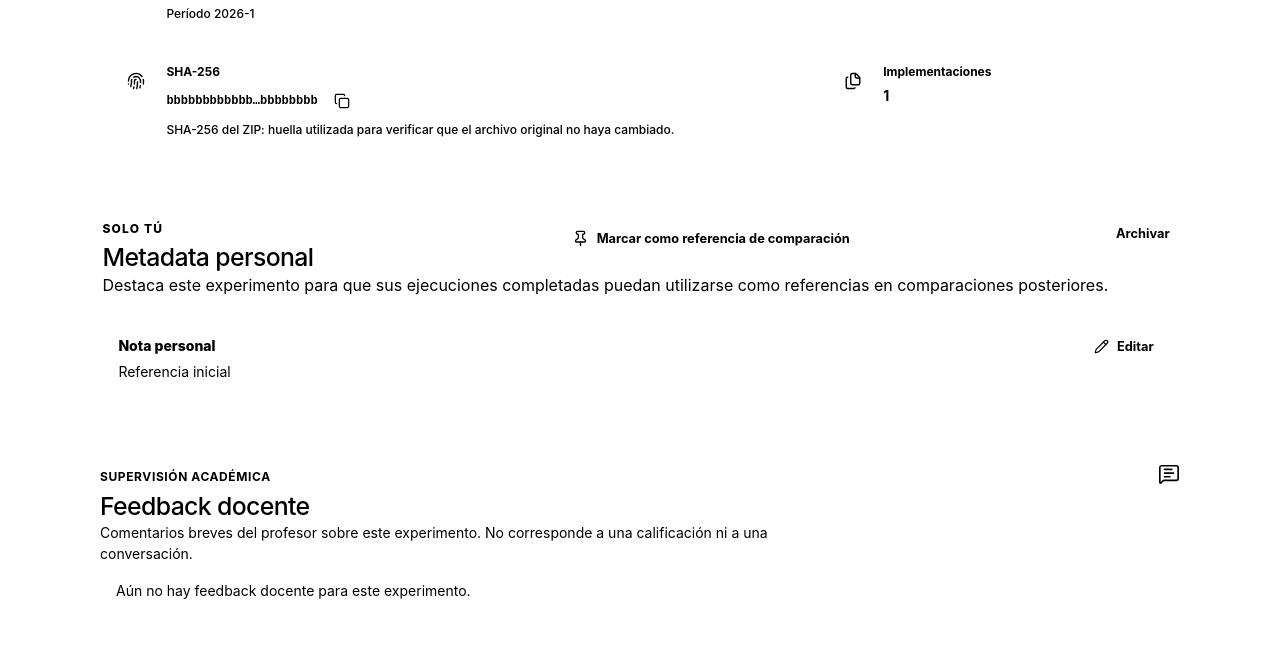
it: SubmissionOverviewPage › successful note PATCH uses backend response as the new UI state
(page scrolled)
Click the button "Editar" at point(1124, 347), box [1086,333,1162,360]
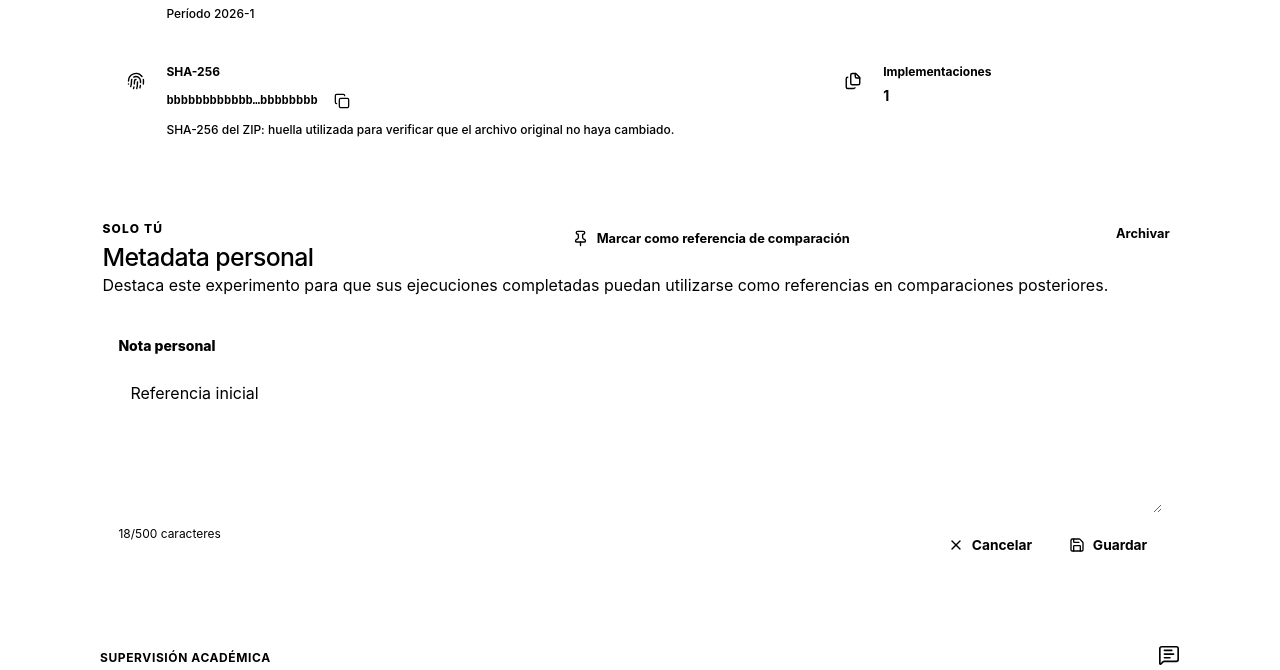
Replace the text in the text box labelled "Nota personal" with "  Nota normalizada por backend  " at point(640, 441), box [118,369,1162,513]
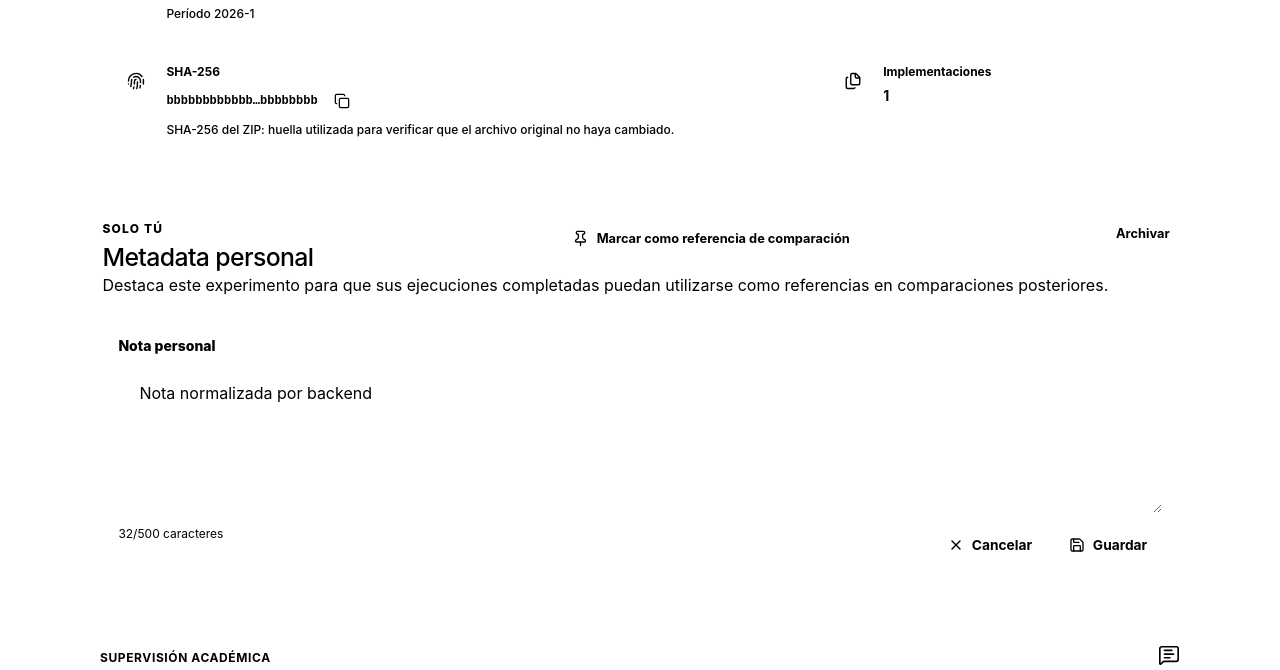
Click the button "Guardar" at point(1108, 545), box [1054,525,1162,565]
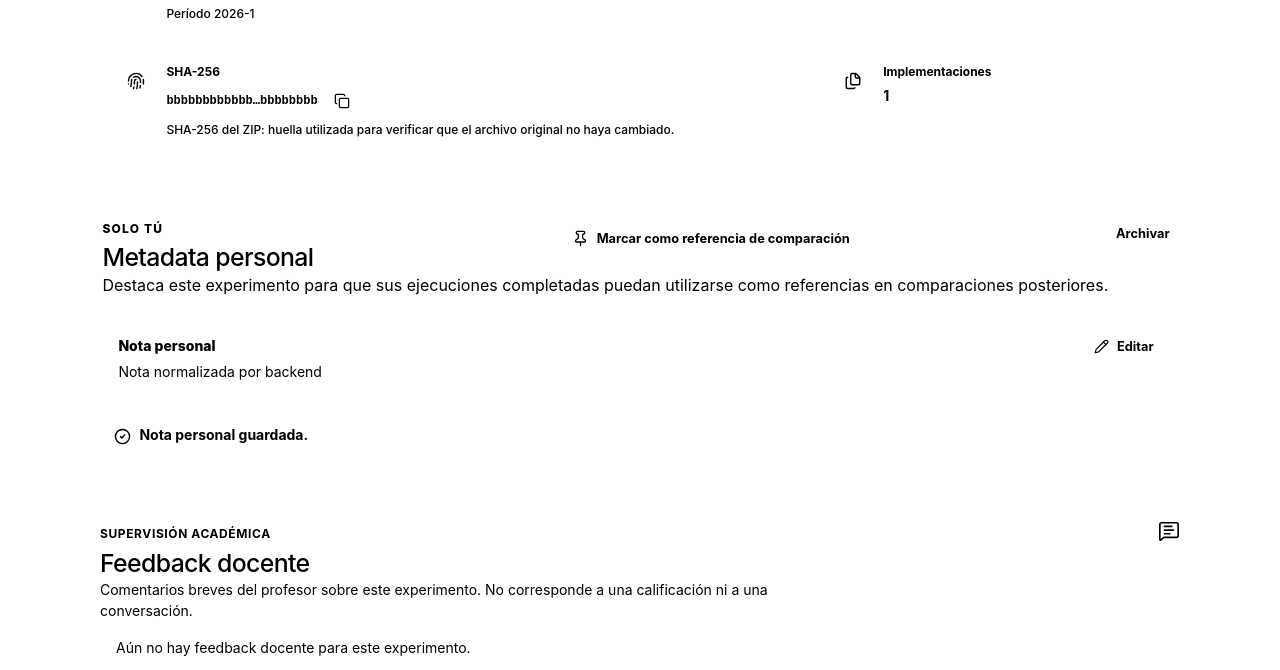
Check: the text "Nota normalizada por backend" is shown, box [118,363,322,380]
Check: the text "Nota personal guardada." is shown, box [114,426,308,445]
